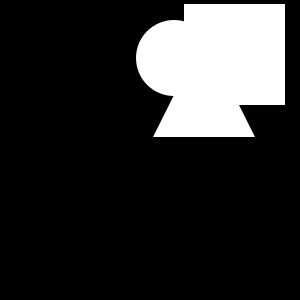circle: (184, 4, 285, 105)
rectangle: (136, 20, 212, 96)
triangle: (153, 35, 255, 137)
